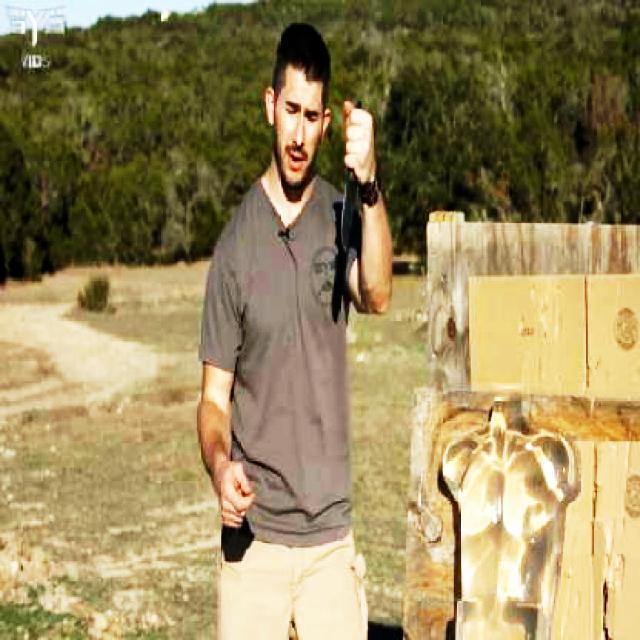Knife: (323, 129, 369, 281)
